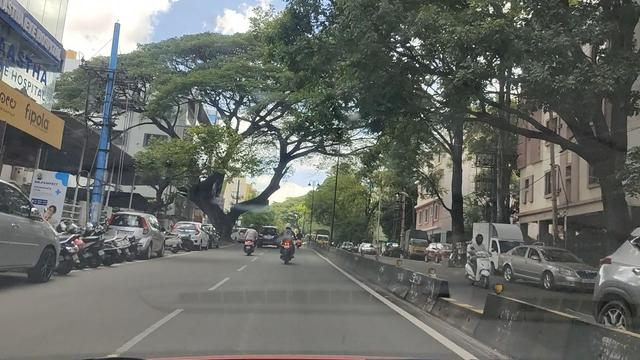LMV: (282, 225, 297, 267)
